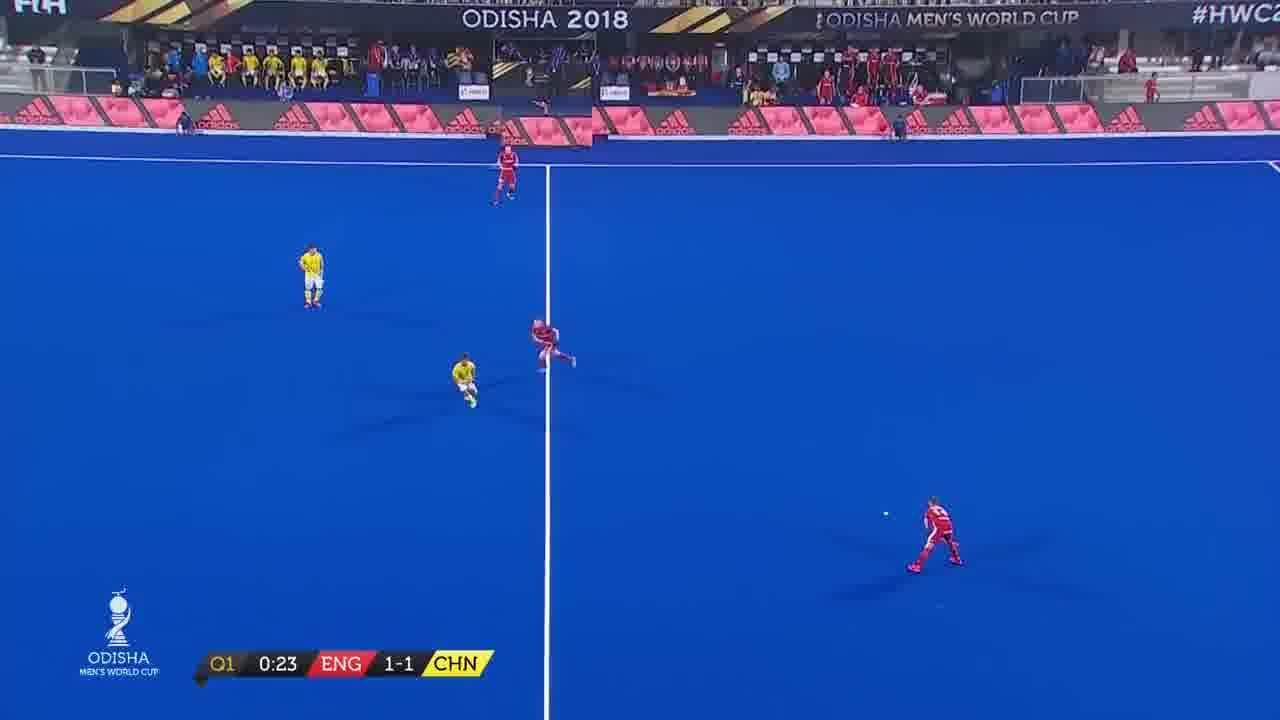ball: (881, 508, 890, 519)
